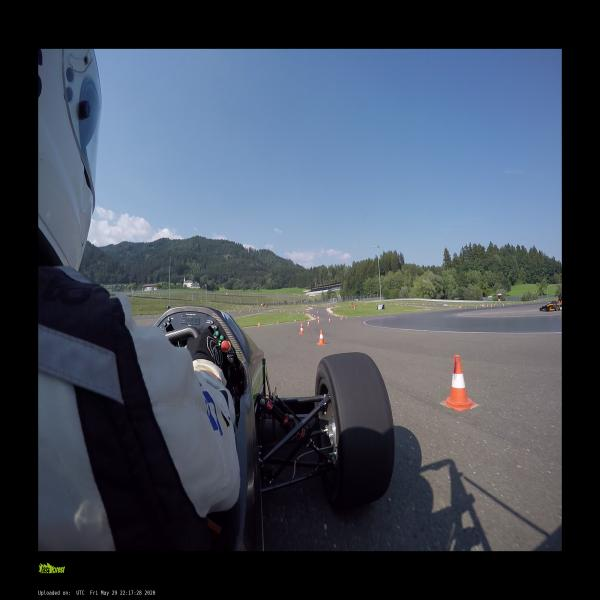orange_cone: (442, 356, 476, 410), (318, 330, 326, 344), (300, 325, 304, 334), (300, 322, 303, 332), (307, 321, 309, 326), (147, 322, 150, 325), (258, 322, 260, 326), (276, 321, 278, 324), (318, 318, 319, 324), (294, 320, 296, 322), (329, 318, 330, 321)
